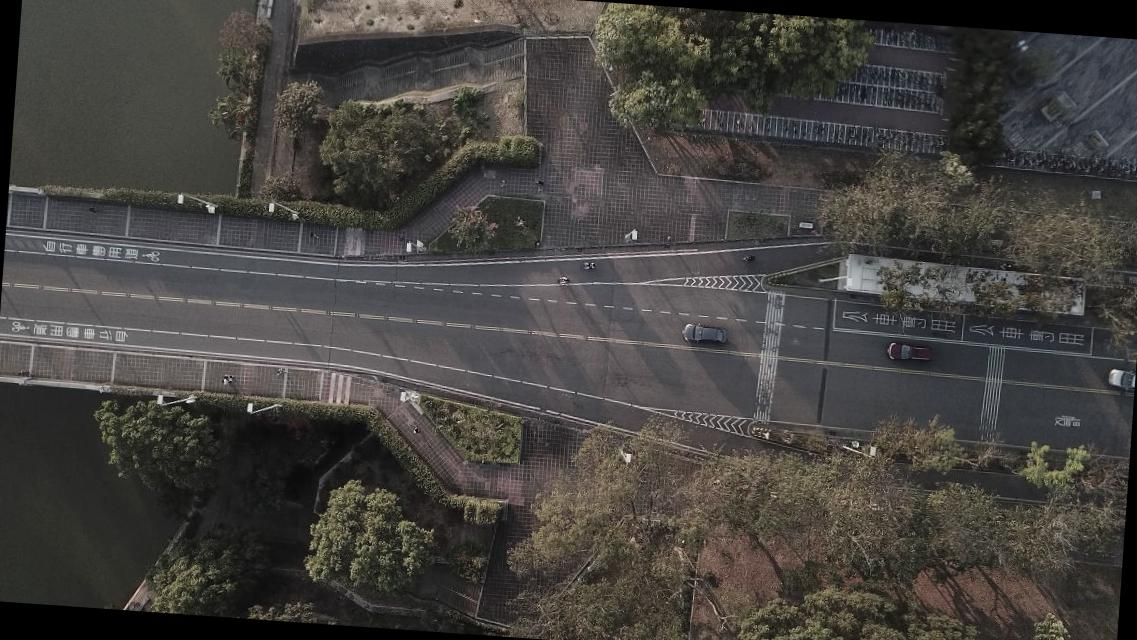vehicle: (681, 322, 727, 345), (885, 342, 933, 364), (1107, 366, 1134, 390)
